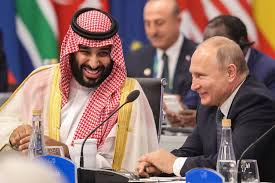middle_eastern_male: (75, 41, 115, 86)
